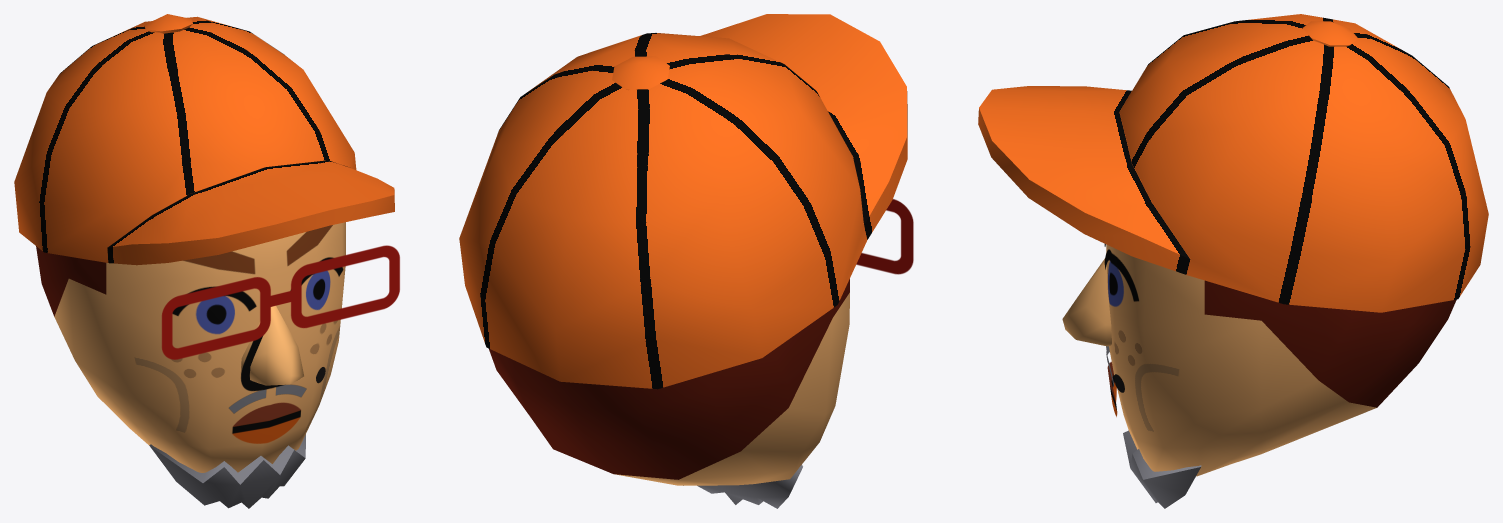
File: bro-inline-mask2.glb
3 renders of one model, left to right at view 1: azimuth 30°, elevation 25°; view 2: azimuth 150°, elevation 25°; view 3: azimuth 270°, elevation 25°, orthographic. The views are drawn at different scales.
Parts seen in each view (by area): view 1: OpaCap, OpaFaceline, CharModel, XluGlass, OpaBeard, OpaNose, OpaHair, XluNoseLine; view 2: OpaCap, OpaHair, OpaFaceline, OpaBeard, XluGlass; view 3: OpaCap, OpaFaceline, OpaHair, OpaNose, OpaBeard, CharModel.
Boxes of the visible parts, box(x1,y1,x2,y2) form: OpaCap: box(14, 14, 394, 265); OpaFaceline: box(54, 222, 345, 472); CharModel: box(172, 225, 343, 443); XluGlass: box(161, 245, 399, 359); OpaBeard: box(149, 434, 305, 508); OpaNose: box(240, 305, 303, 385); OpaHair: box(36, 246, 106, 316); XluNoseLine: box(241, 336, 283, 391); OpaCap: box(459, 14, 907, 389); OpaHair: box(489, 279, 849, 479); OpaFaceline: box(615, 292, 849, 485); OpaBeard: box(683, 465, 802, 508); XluGlass: box(856, 199, 913, 274); OpaCap: box(978, 14, 1488, 312); OpaFaceline: box(1106, 244, 1376, 476); OpaHair: box(1204, 280, 1456, 407); OpaNose: box(1062, 258, 1111, 346); OpaBeard: box(1123, 430, 1201, 508); CharModel: box(1104, 244, 1138, 416).
Bounding box in the file's own units: 6 × 8.33 × 8.11.
16 materials, 12 textured.
